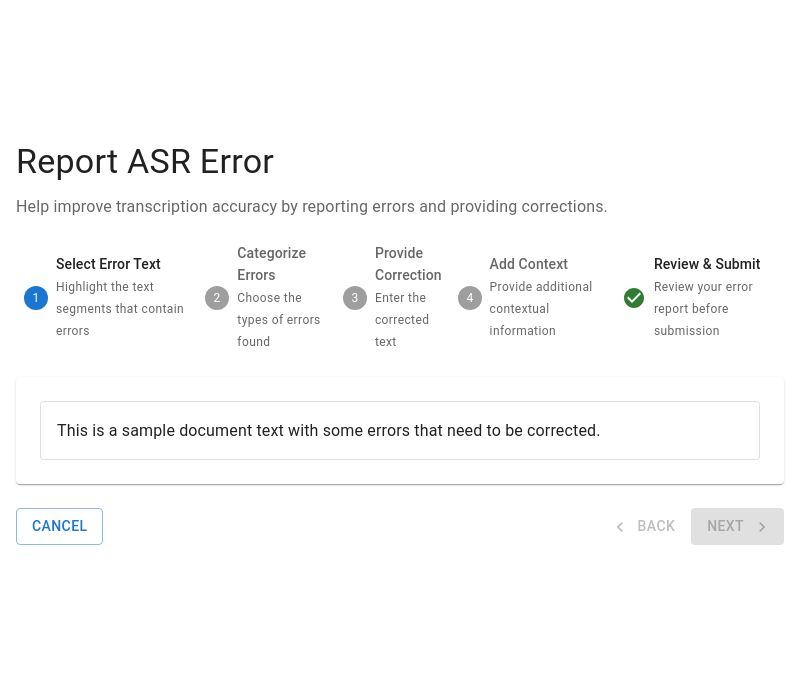
ErrorReportingForm › Step Navigation › navigates to next step when Next is clicked
Press the mouse on the text with test id "selectable-text" at (329,430), box [57, 421, 601, 440]
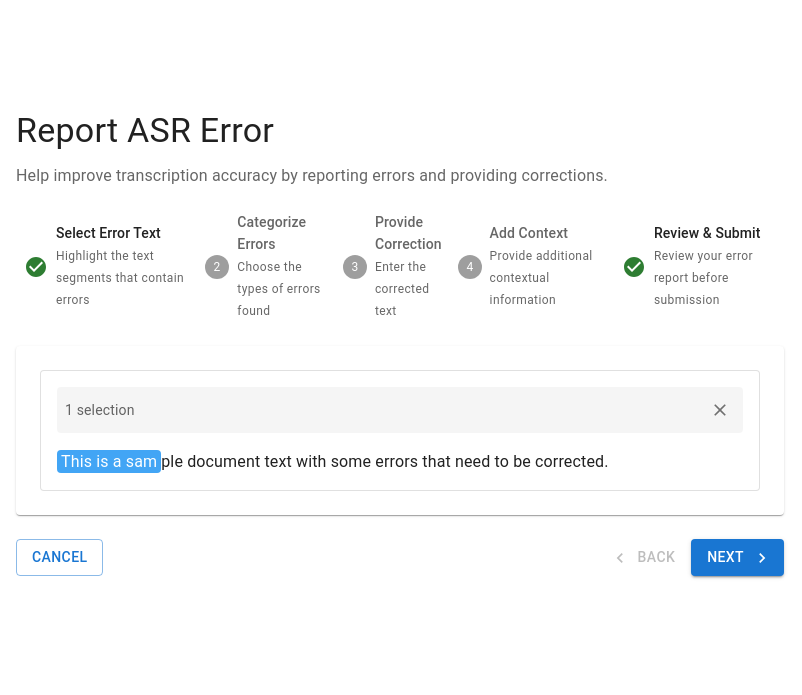
Click the button "Next" at (738,558), box [691, 539, 784, 576]
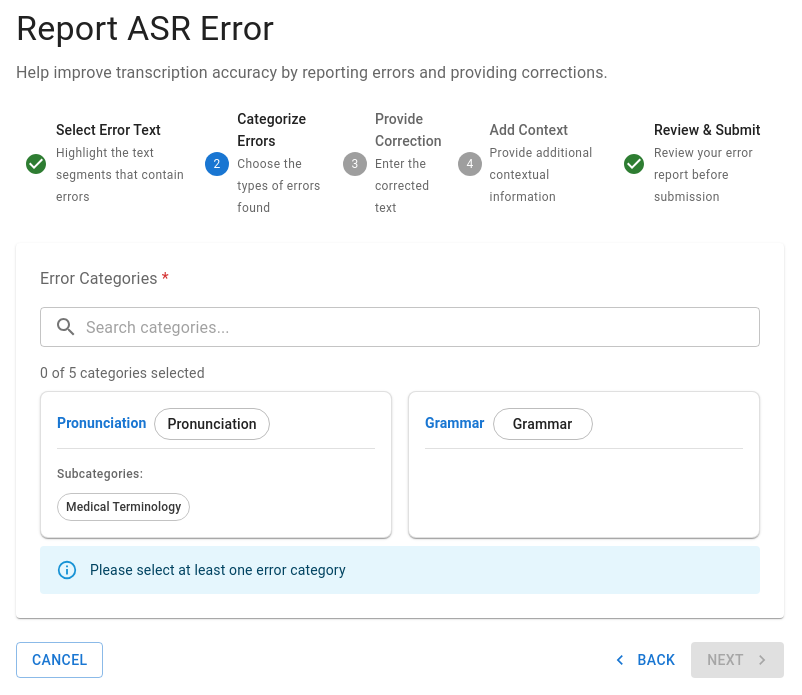
Check: the text "Error Categories" is shown, box [40, 269, 158, 288]
